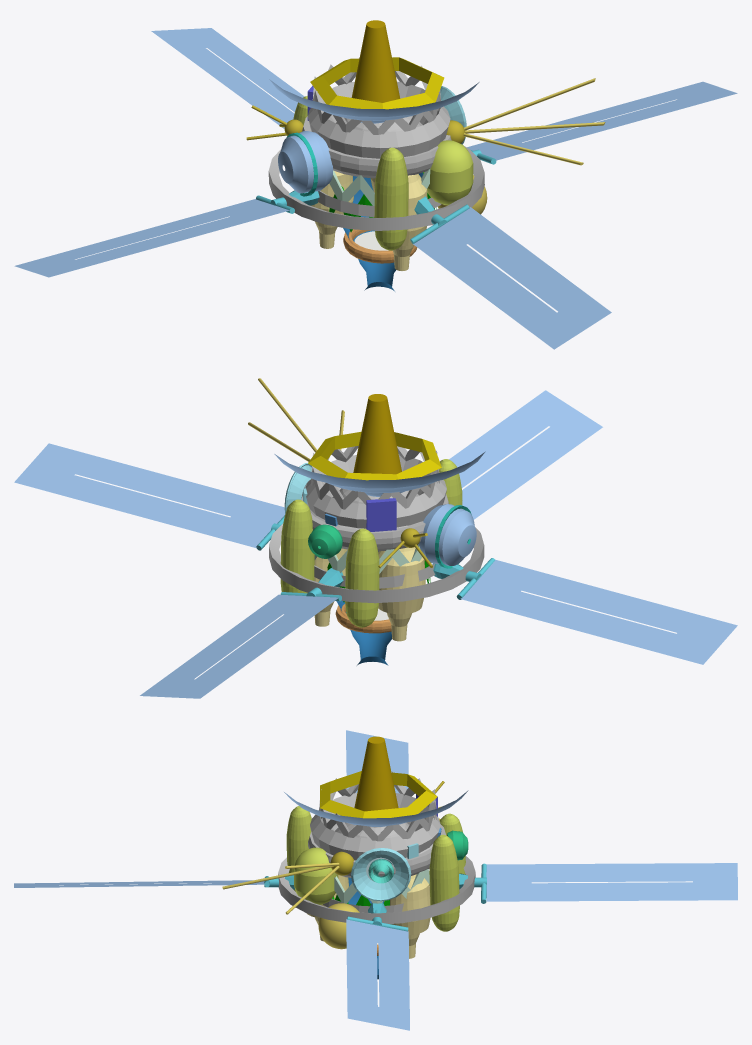
Rendered from Satellite.gltf.
3 renders of one model, top to bottom at view 1: azimuth 30°, elevation 25°; view 2: azimuth 150°, elevation 25°; view 3: azimuth 270°, elevation 25°, orthographic. The views are drawn at different scales.
Visible parts, largest first — view 1: solar_panel_4, solar_panel_3, solar_panel_2, solar_panel1, ring1, solar_panel_ring1, sensor_torus, commcone, fuel_tank_1, camera_1, gas_tank_1, main_dish (+10 smaller); view 2: solar_panel_3, solar_panel1, solar_panel_4, solar_panel_2, solar_panel_ring1, ring1, commcone, sensor_torus, fuel_tank_3, camera_1, fuel_tank_2, ion_engine_3 (+12 smaller); view 3: solar_panel_2, solar_panel1, ring1, solar_panel_ring1, sensor_torus, commcone, fuel_tank_2, camera_shield, gas_tank_1, solar_panel_3, dish_strut, ion_engine_1 (+6 smaller).
Boxes of the visible parts, x1,y1,x2,y2 form: solar_panel_4: (413, 207, 611, 349); solar_panel_3: (14, 199, 289, 277); solar_panel_2: (151, 28, 304, 128); solar_panel1: (467, 81, 737, 160); ring1: (307, 81, 450, 158); solar_panel_ring1: (268, 146, 484, 230); sensor_torus: (310, 57, 444, 109); commcone: (351, 20, 400, 102); fuel_tank_1: (374, 147, 408, 250); camera_1: (278, 131, 333, 193); gas_tank_1: (423, 140, 473, 205); main_dish: (269, 79, 479, 123); solar_panel_3: (460, 559, 737, 664); solar_panel1: (14, 443, 285, 548); solar_panel_4: (449, 390, 602, 519); solar_panel_2: (140, 594, 338, 698); solar_panel_ring1: (269, 523, 484, 603); ring1: (305, 455, 446, 528); commcone: (353, 394, 401, 474); sensor_torus: (308, 431, 441, 480); fuel_tank_3: (345, 528, 379, 627); camera_1: (418, 504, 476, 565); fuel_tank_2: (280, 499, 314, 593); ion_engine_3: (378, 547, 425, 641); solar_panel_2: (486, 863, 737, 901); solar_panel1: (346, 919, 409, 1030); ring1: (310, 793, 440, 860); solar_panel_ring1: (278, 856, 475, 923); sensor_torus: (320, 771, 437, 818); commcone: (354, 736, 398, 811); fuel_tank_2: (429, 834, 459, 931); camera_shield: (351, 848, 411, 901); gas_tank_1: (294, 847, 338, 904); solar_panel_3: (346, 730, 408, 793); dish_strut: (318, 772, 436, 841); ion_engine_1: (384, 874, 430, 958).
Size of the model in its own units: 9.07 by 3.43 by 9.19.
